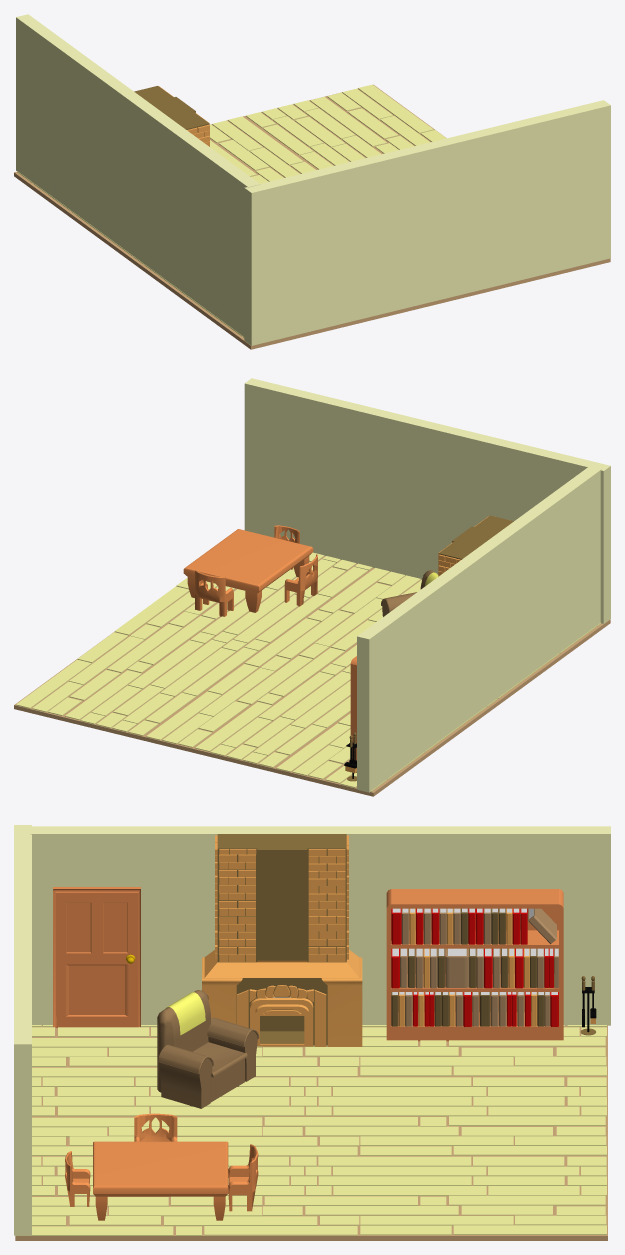
Rendered from sala-final.fbx.
The picture shows the model from 3 angles, top to bottom: view 1: azimuth 30°, elevation 25°; view 2: azimuth 150°, elevation 25°; view 3: azimuth 270°, elevation 25°; orthographic projection. The views are drawn at different scales.
Parts seen in each view (by area): view 1: pCube24, pCube23, polySurface451, polySurface240; view 2: polySurface451, pCube24, pCube23, pCube97, polySurface240, polySurface55, polySurface56, polySurface311, pPlane3; view 3: polySurface451, pCube23, polySurface240, polySurface311, pCube153, pPlane3, pCube97, pCube24, polySurface55, polySurface56, polySurface57, polySurface316.
Boxes of the visible parts, <box> form: pCube24: <box>244,100,610,345</box>; pCube23: <box>16,14,260,336</box>; polySurface451: <box>14,84,610,349</box>; polySurface240: <box>134,86,209,146</box>; polySurface451: <box>14,552,610,796</box>; pCube24: <box>244,378,610,623</box>; pCube23: <box>357,466,601,792</box>; pCube97: <box>183,529,313,612</box>; polySurface240: <box>438,515,513,576</box>; polySurface55: <box>195,570,233,616</box>; polySurface56: <box>284,554,317,606</box>; polySurface311: <box>350,656,356,760</box>; pPlane3: <box>381,570,438,616</box>; polySurface451: <box>15,1025,607,1240</box>; pCube23: <box>30,826,610,1025</box>; polySurface240: <box>202,834,362,1046</box>; polySurface311: <box>386,889,563,1041</box>; pCube153: <box>53,887,140,1027</box>; pPlane3: <box>157,990,259,1108</box>; pCube97: <box>93,1141,228,1220</box>; pCube24: <box>14,825,31,1235</box>; polySurface55: <box>228,1144,258,1211</box>; polySurface56: <box>134,1113,177,1141</box>; polySurface57: <box>65,1151,90,1206</box>; polySurface316: <box>580,976,596,1035</box>.
Size of the model in its own units: 16.46 by 6.89 by 18.93.
